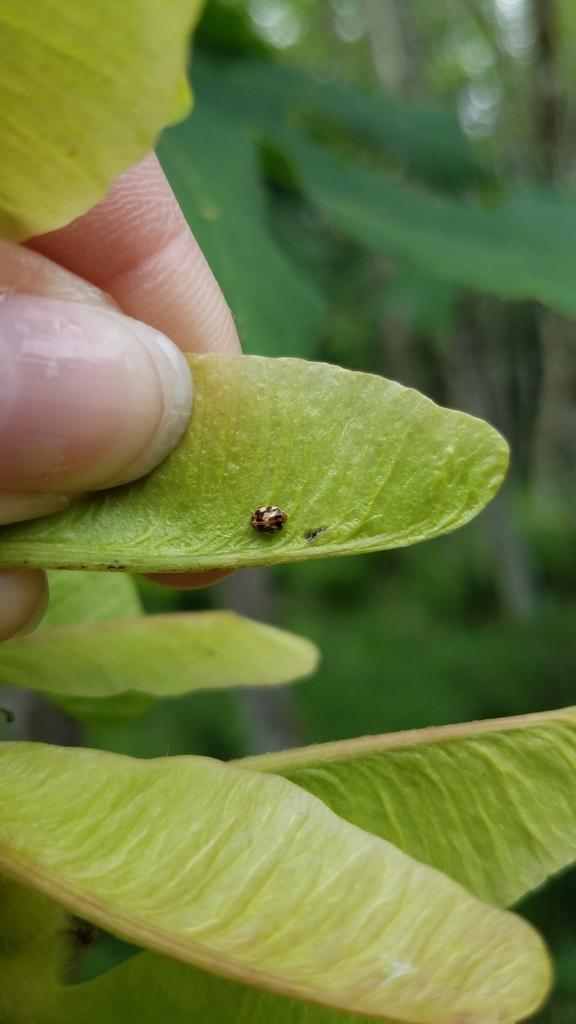ladybug: (247, 506, 292, 537)
